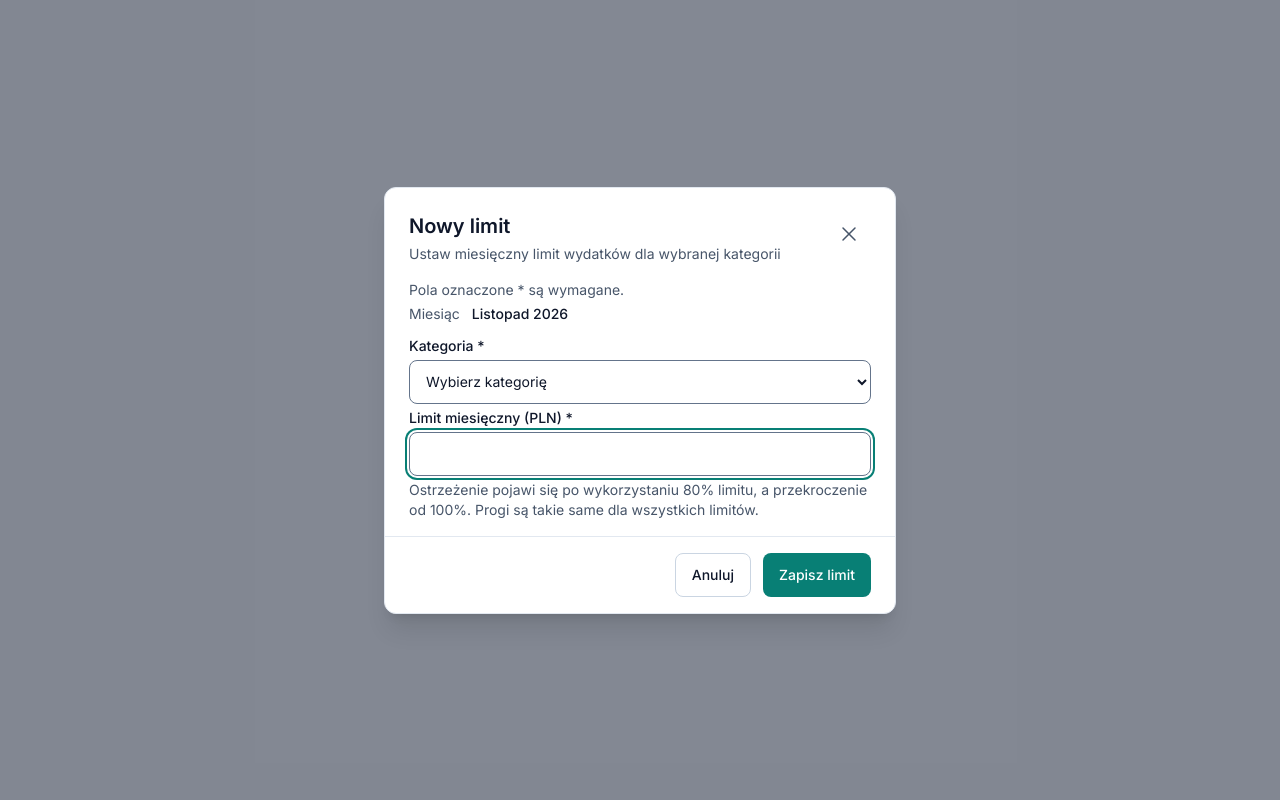
Test: LimitDialog › create mode › sends nothing, shows both messages and focuses the category when the form is empty
The image size is (1280, 800).
Click the button "Zapisz limit".
click(817, 574)  # box [763,552,871,596]
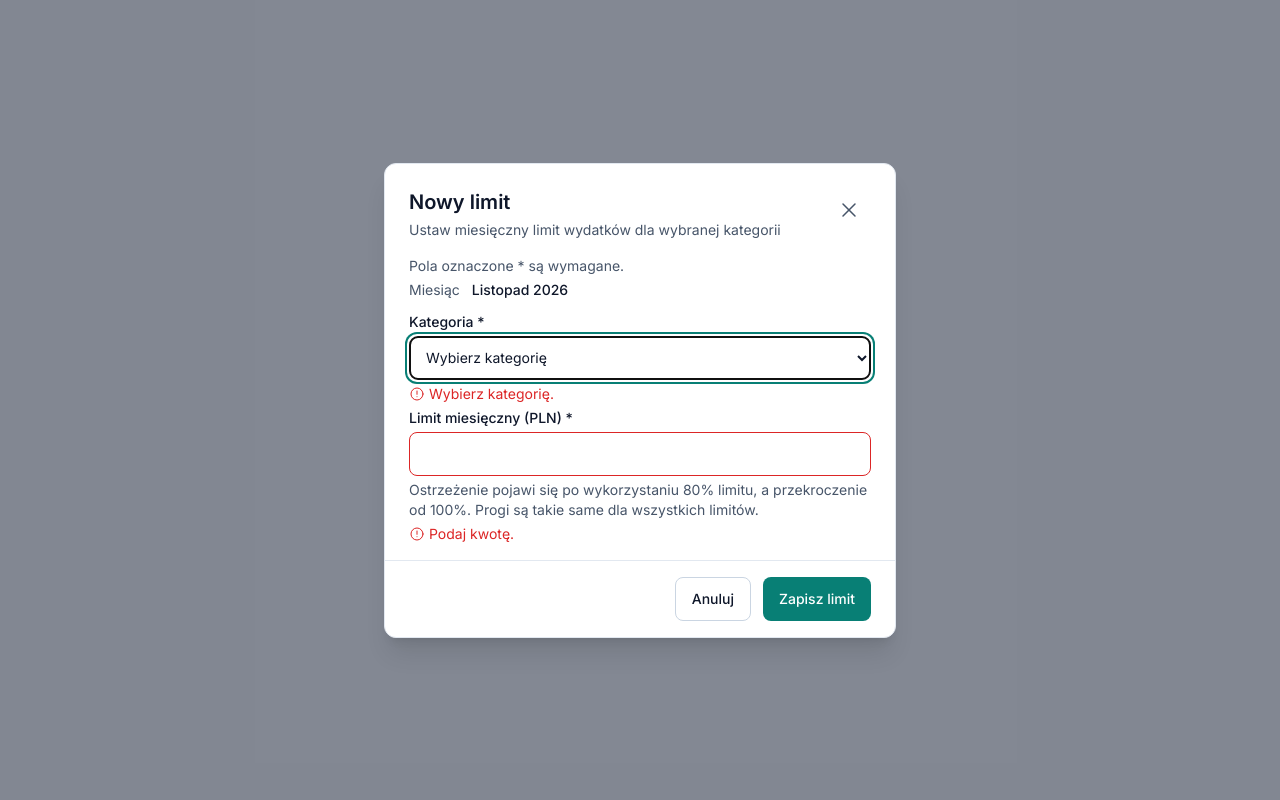
Expected: the messages read "Wybierz kategorię.", "Podaj kwotę.", in this order, [409,384,554,402]; [409,524,514,542]
